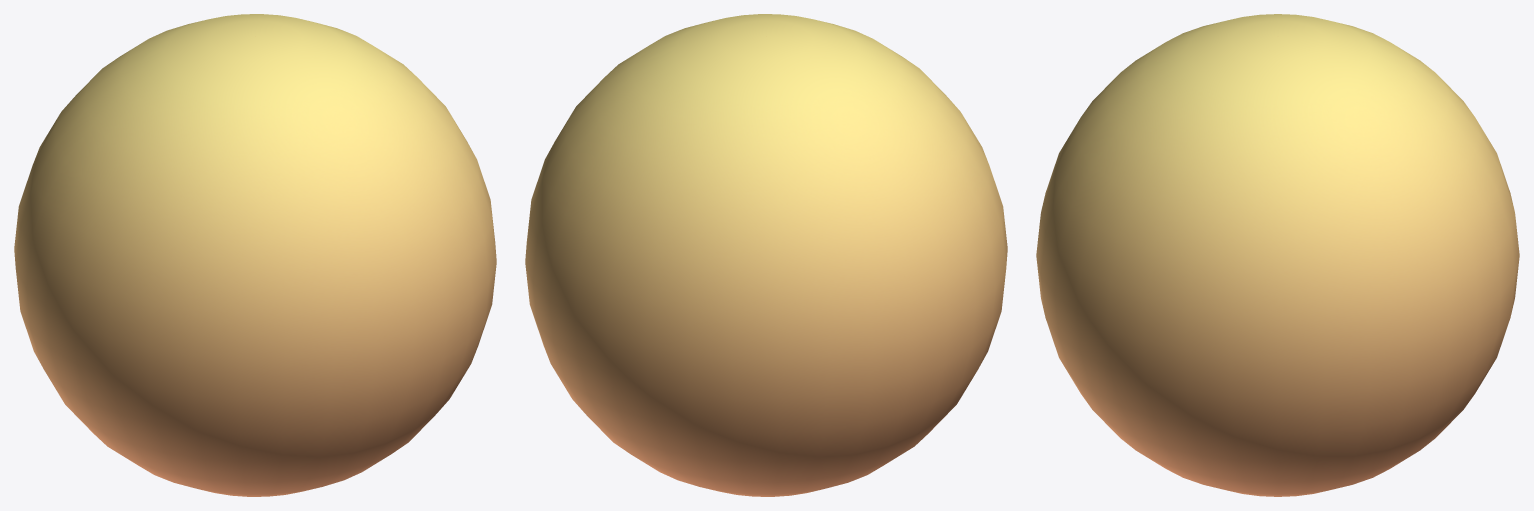
The model's file is stage_1_bellydance.fbx.
The picture shows the model from 3 angles, left to right: view 1: azimuth 30°, elevation 25°; view 2: azimuth 150°, elevation 25°; view 3: azimuth 270°, elevation 25°; orthographic projection.
Visible parts, largest first — view 1: stage1_background_wall; view 2: stage1_background_wall; view 3: stage1_background_wall.
Part boxes in pixels (x1,y1,x2,y2): stage1_background_wall: [14, 14, 496, 496]; stage1_background_wall: [525, 14, 1007, 496]; stage1_background_wall: [1036, 14, 1519, 496].
Bounding box in the file's own units: 3000 × 3000 × 3000.
